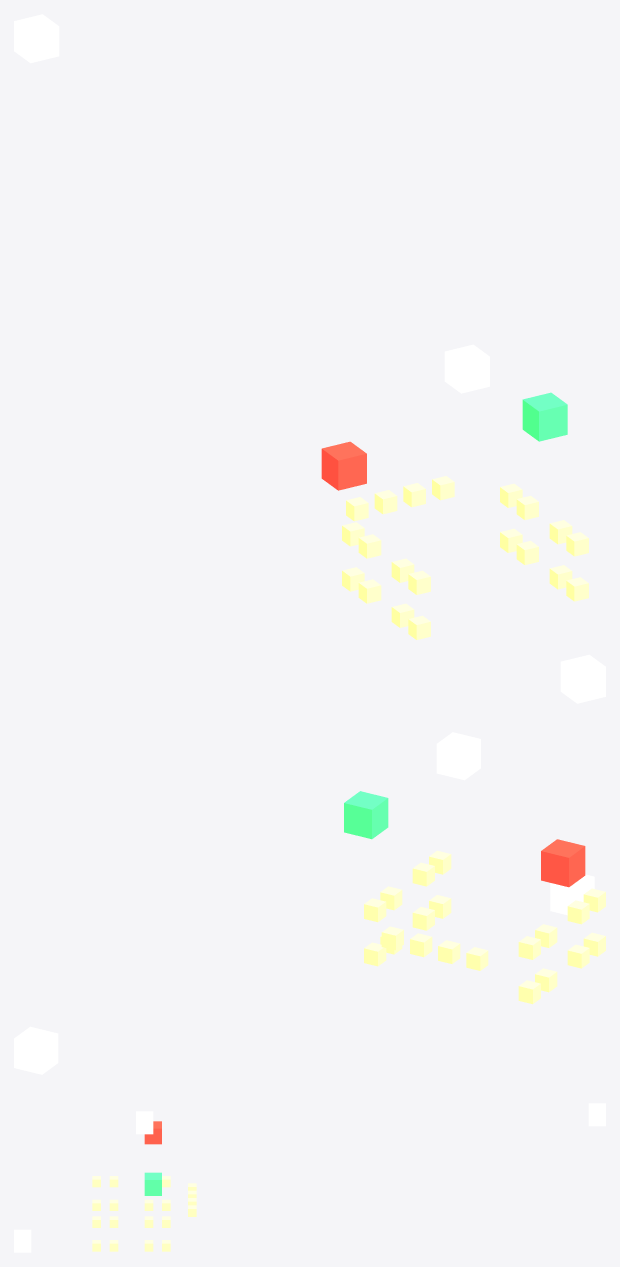
The model's file is ship-lights.gltf.
The picture shows the model from 3 angles, top to bottom: view 1: azimuth 30°, elevation 25°; view 2: azimuth 150°, elevation 25°; view 3: azimuth 270°, elevation 25°; orthographic projection. The views are drawn at different scales.
Visible parts, largest first — view 1: ship-lights; view 2: ship-lights; view 3: ship-lights.
Part boxes in pixels (x1=…): ship-lights: x1=14, y1=14, x2=605, y2=703; ship-lights: x1=14, y1=732, x2=605, y2=1074; ship-lights: x1=14, y1=1103, x2=605, y2=1252.
Size of the model in its own units: 16.32 by 18.36 by 69.36.
